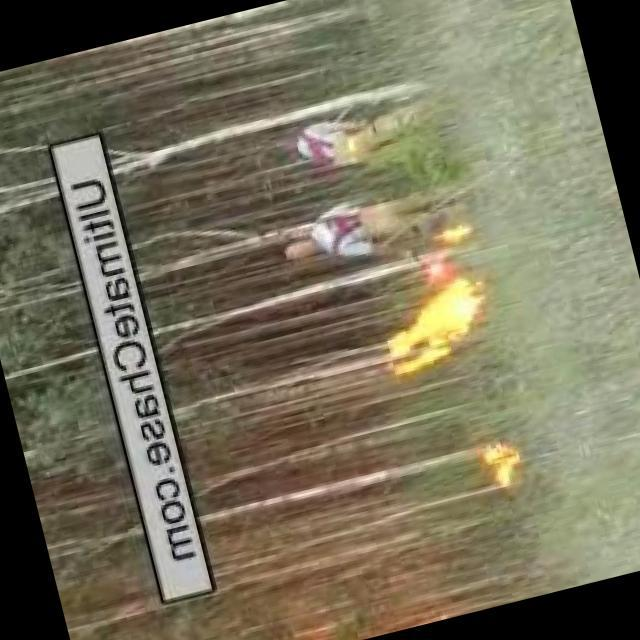Fire: (371, 280, 497, 380), (480, 436, 531, 495), (440, 223, 472, 246)
